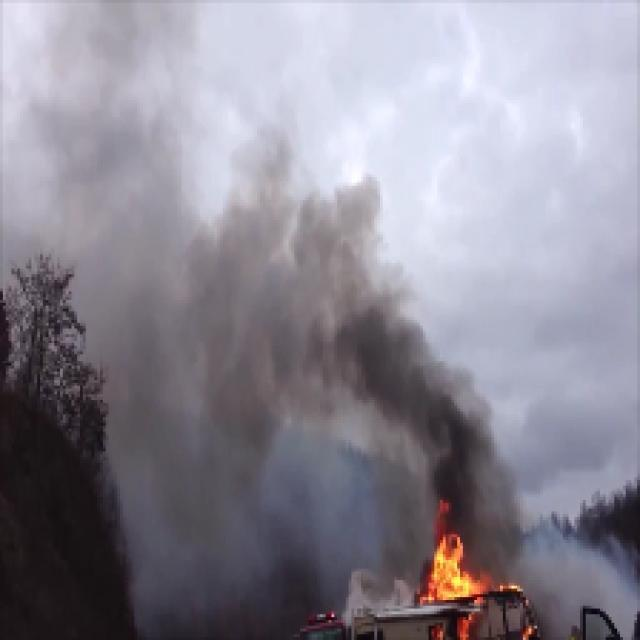Smoke: (121, 187, 390, 478), (18, 3, 195, 184)
